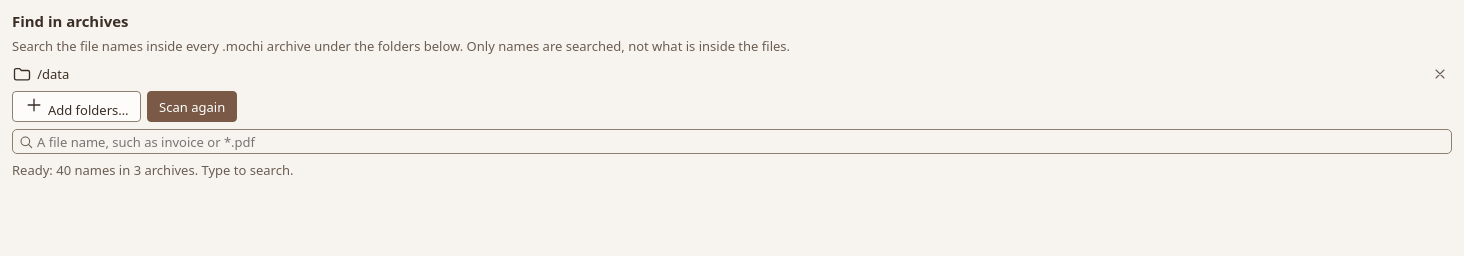
Test case: zero matches with archives that could not be searched is incomplete, never No matches
Type "invoice" into the search field with test id "find-query" at (732, 142), box x1=12 y1=129 x2=1452 y2=154
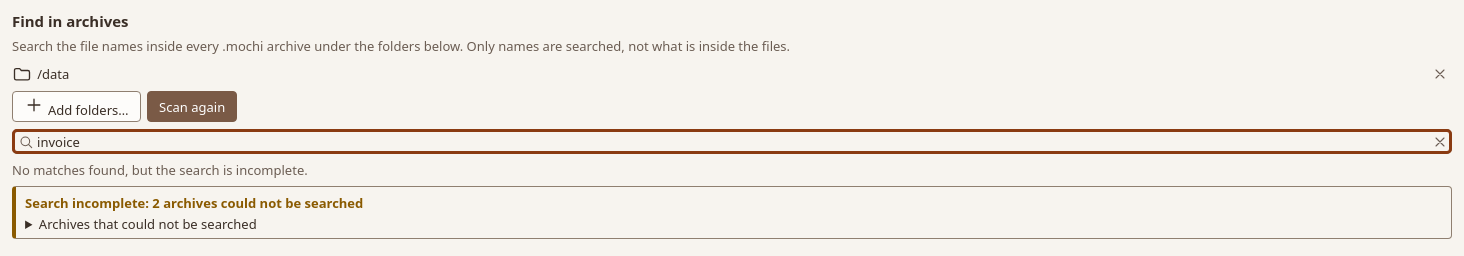
Check: the text with test id "find-incomplete-head" reads "Search incomplete: 2 archives could not be searched", box x1=25 y1=194 x2=363 y2=212
Check: the message with test id "find-status" reads "No matches found, but the search is incomplete.", box x1=12 y1=161 x2=308 y2=179
